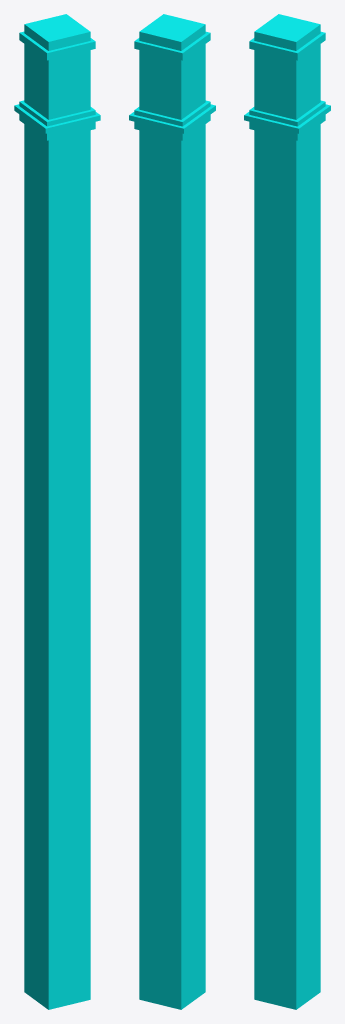
Rendered from InsideColumnPostWithColumn.FBX.
The picture shows the model from 3 angles, left to right: view 1: azimuth 30°, elevation 25°; view 2: azimuth 150°, elevation 25°; view 3: azimuth 330°, elevation 25°; orthographic projection.
Parts seen in each view (by area): view 1: InsideRailWithPillar; view 2: InsideRailWithPillar; view 3: InsideRailWithPillar.
Boxes of the visible parts, left/top/right/bottom form: InsideRailWithPillar: left=14, top=14, right=100, bottom=1009; InsideRailWithPillar: left=129, top=14, right=215, bottom=1009; InsideRailWithPillar: left=244, top=14, right=330, bottom=1009.
Bounding box in the file's own units: 130 × 130 × 2188.
